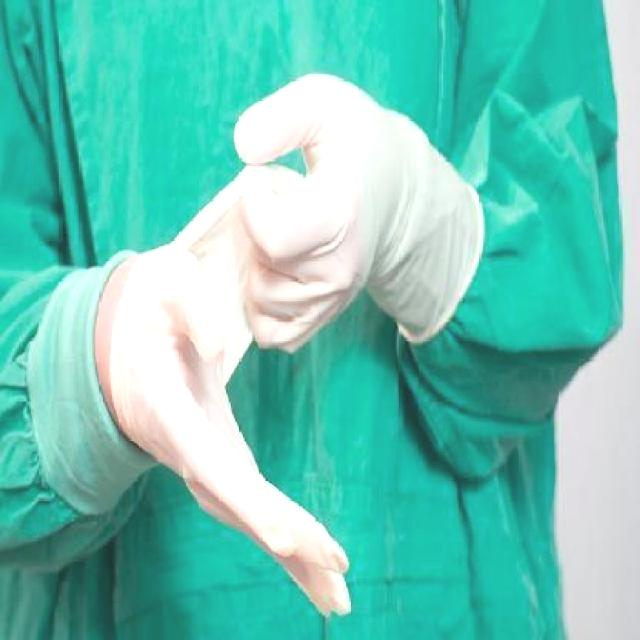hand_glove: (118, 247, 364, 616), (237, 67, 426, 362)
